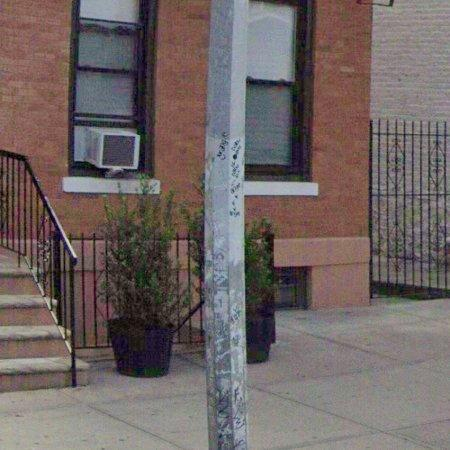stairs: (0, 248, 70, 392)
